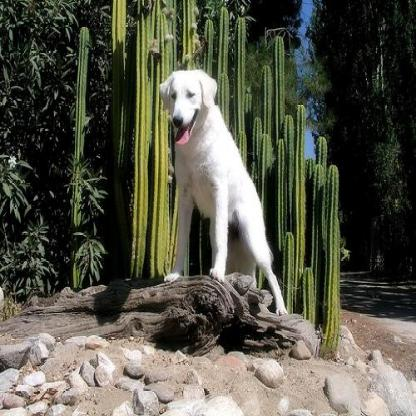kuvasz: (159, 67, 287, 318)
